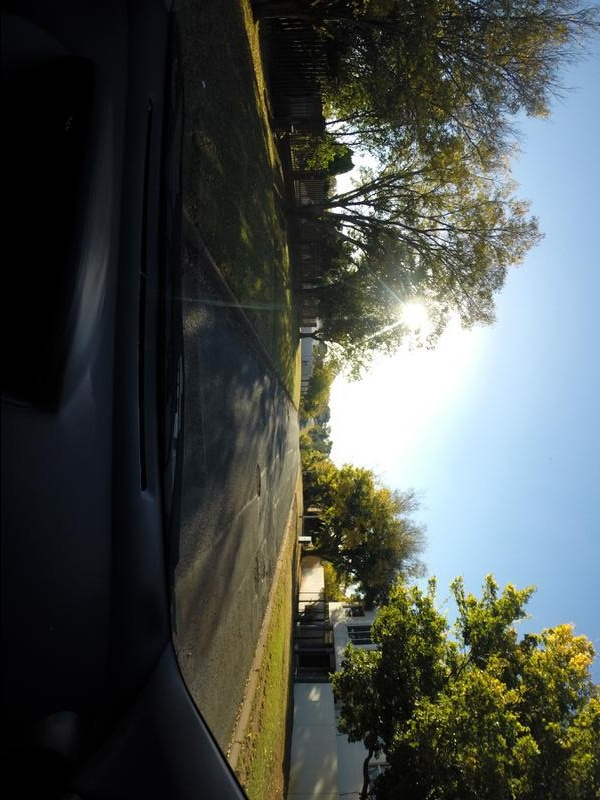pothole: (251, 464, 267, 501), (250, 558, 261, 595)
